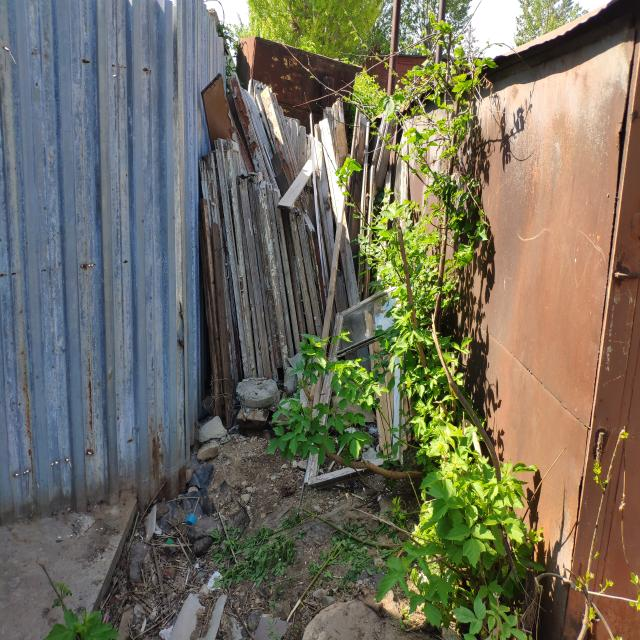entulho: (200, 140, 284, 430), (304, 284, 409, 486), (284, 112, 360, 370), (203, 72, 269, 154), (168, 570, 228, 640)
